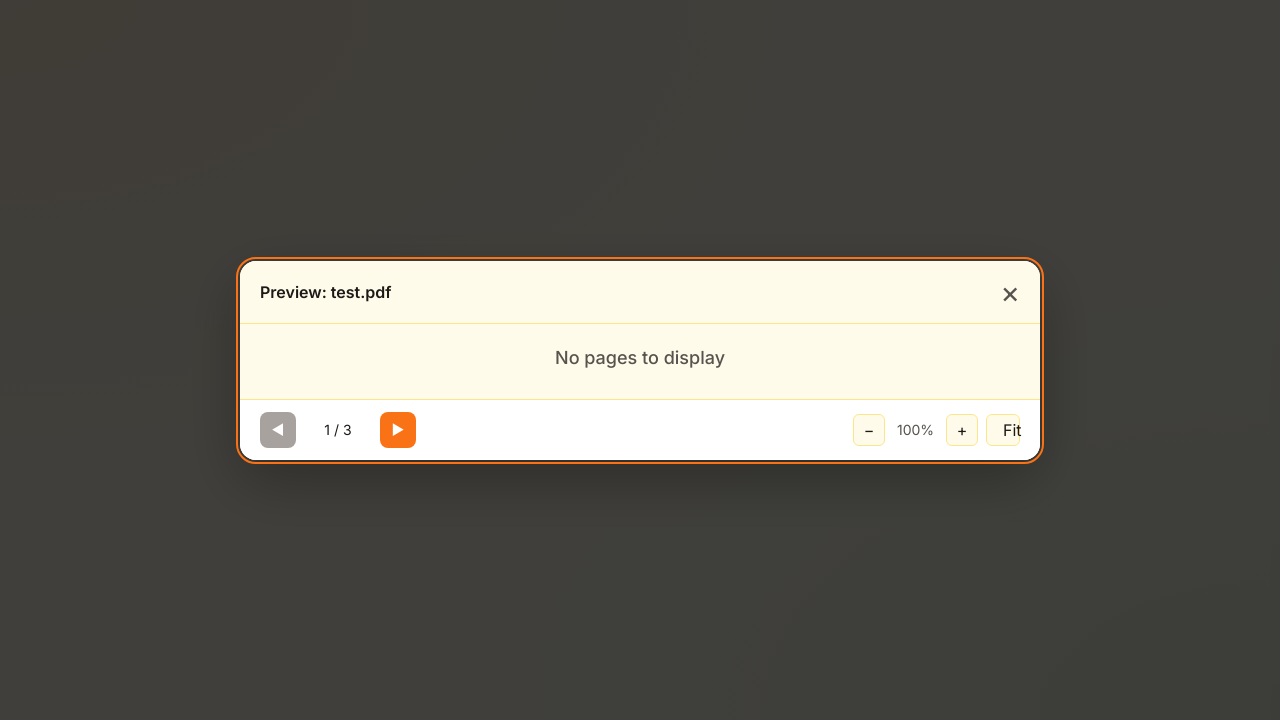
Scenario: PreviewModal › navigates to previous page when previous button is clicked
The image size is (1280, 720).
// Go to page 2 first
Click the button named "Next page" at (398, 430), box [380,412,416,448]
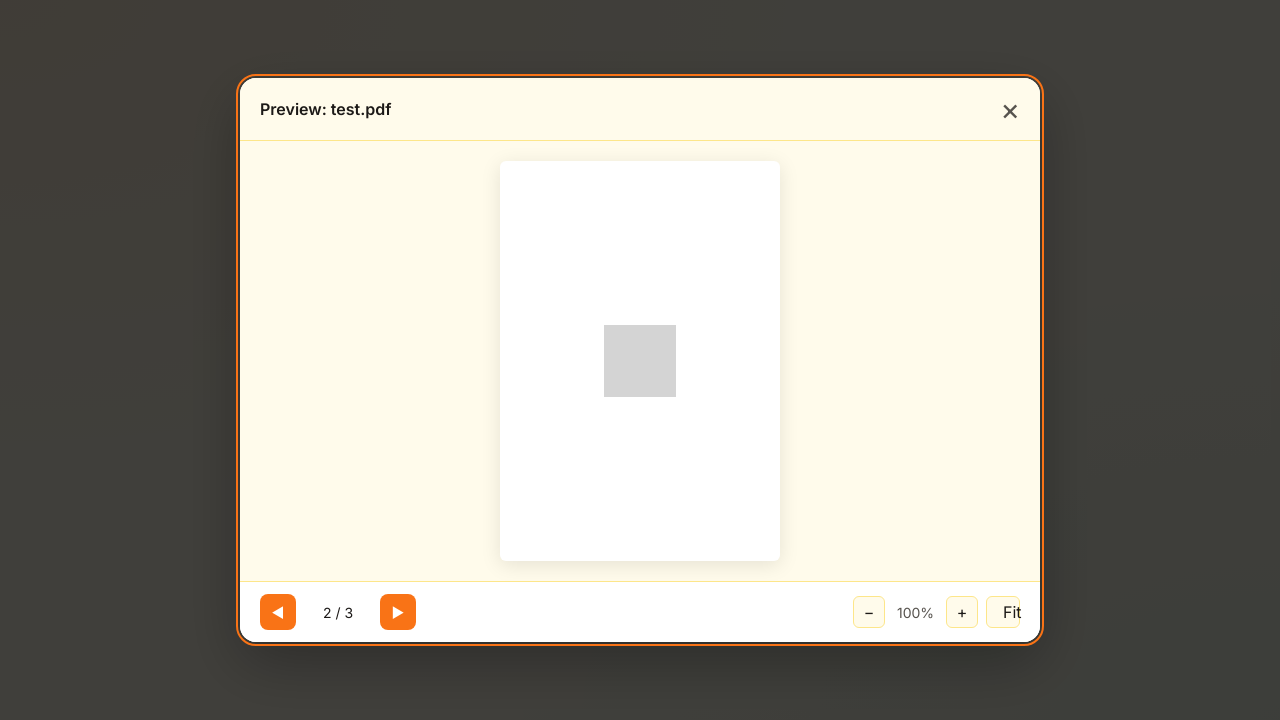
Check: the text "2 / 3" is shown, box [323,604,353,620]
// Go back to page 1
Click the button named "Previous page" at (278, 612), box [260,594,296,630]
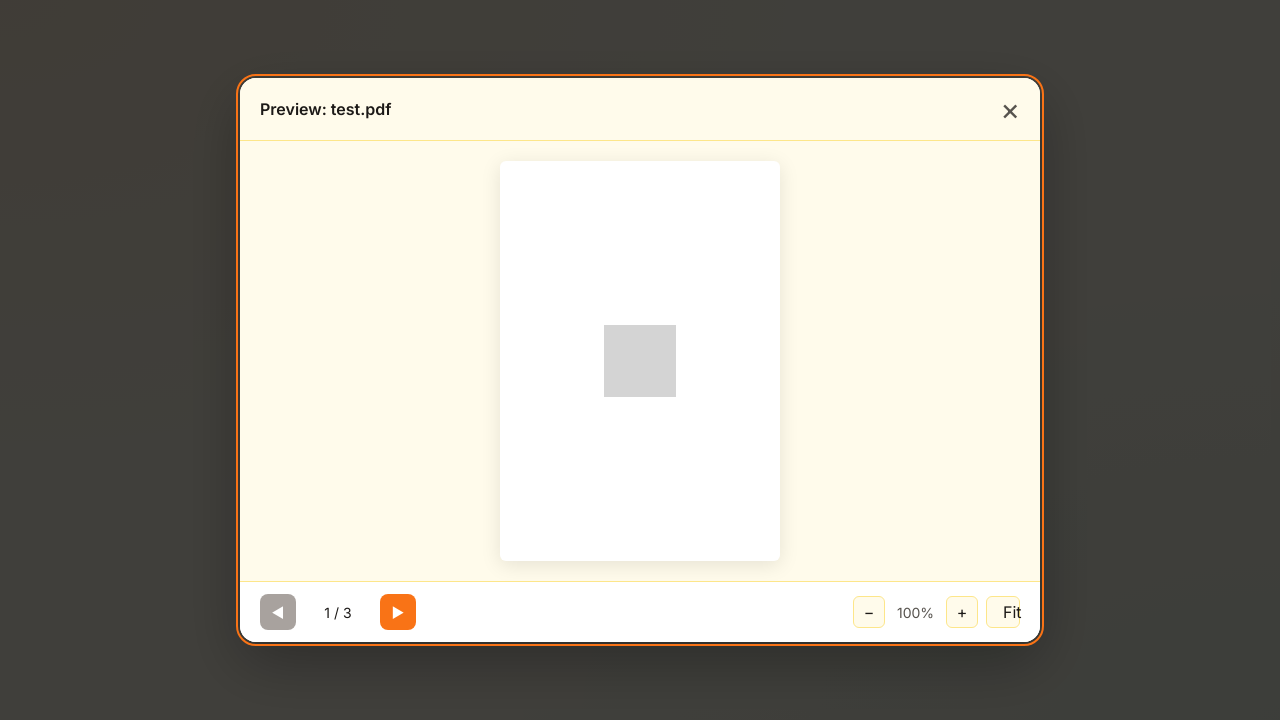
Check: the text "1 / 3" is shown, box [324,604,352,620]
